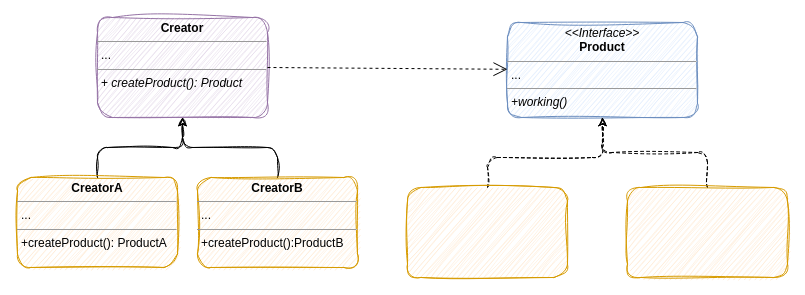
Some shapes in this 805 by 295 pixel diagram are drawn without their labels. The centre of each missing label's shape, as x and y in pixels:
"ProductA - mem1 - mem3 +working()" belongs at (487,232).
"ProductB - mem2 + working() - other()" belongs at (707,232).
